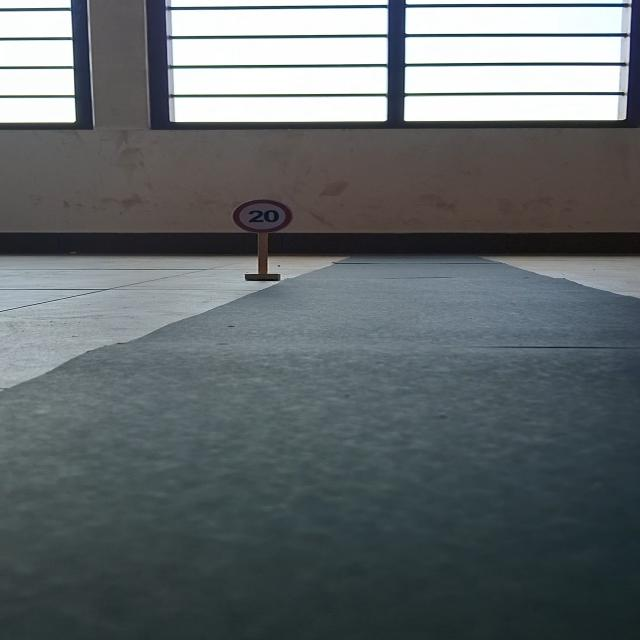Speed20: (220, 196, 303, 235)
